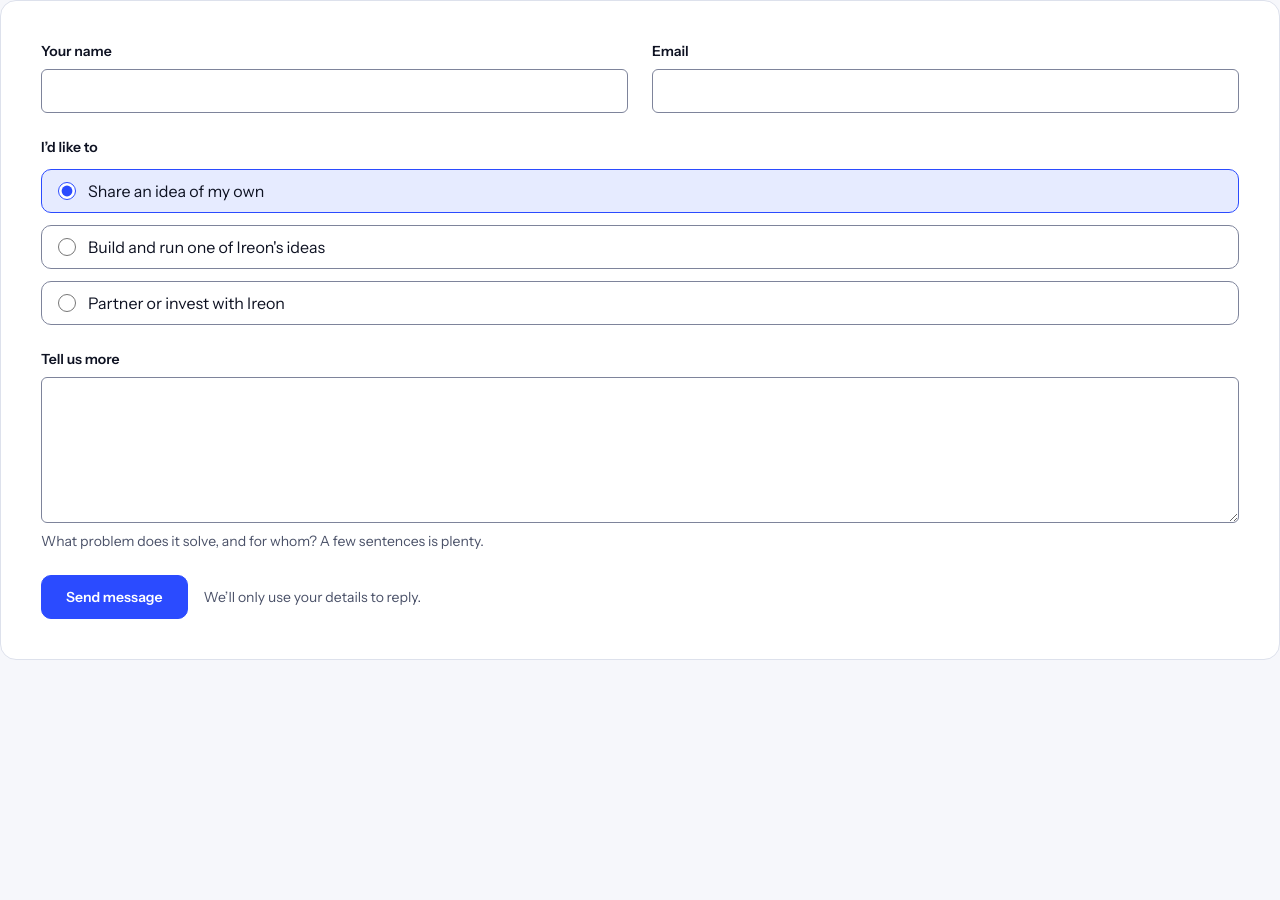
Test: ContactForm › shows errors and does not submit when fields are empty
The image size is (1280, 900).
Click the button "Send message" at (114, 597), box [41,575,188,619]
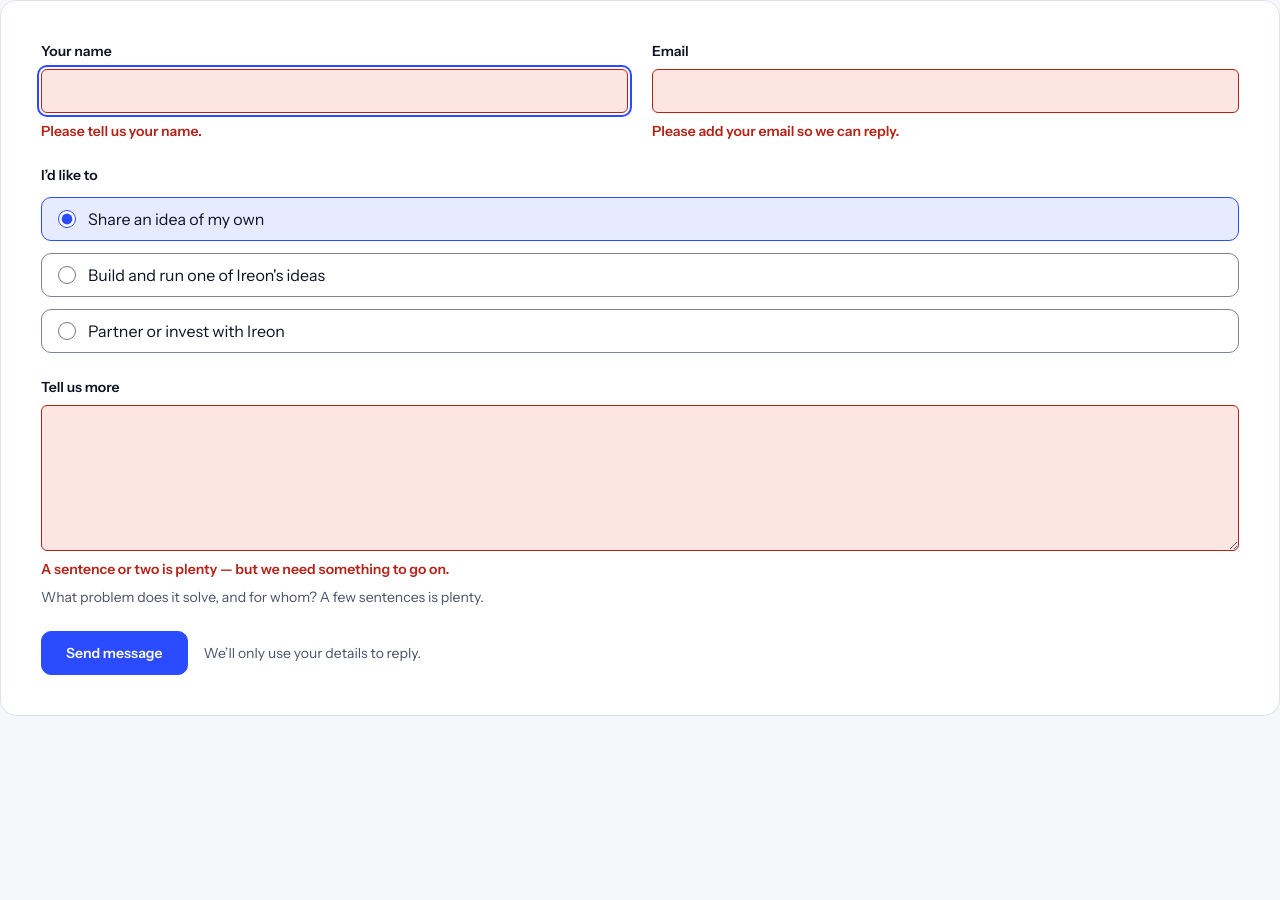
Expected: the text "Please tell us your name." is shown, [41,122,202,140]
